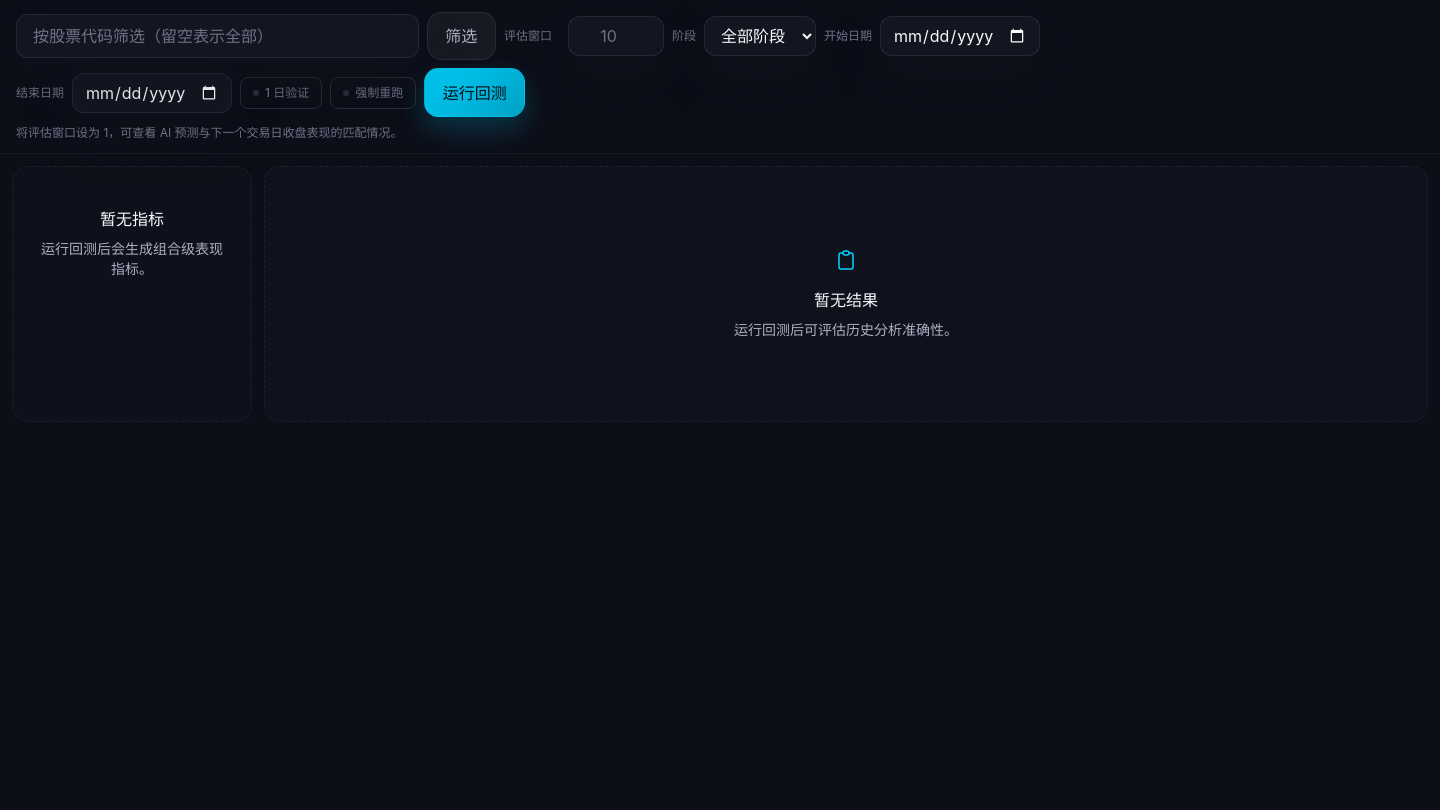
Test: BacktestPage › uses backend-applied eval window when run input is empty
Type "600519.SH" into the field with placeholder "按股票代码筛选（留空表示全部）" at (217, 36), box [16,14,419,58]
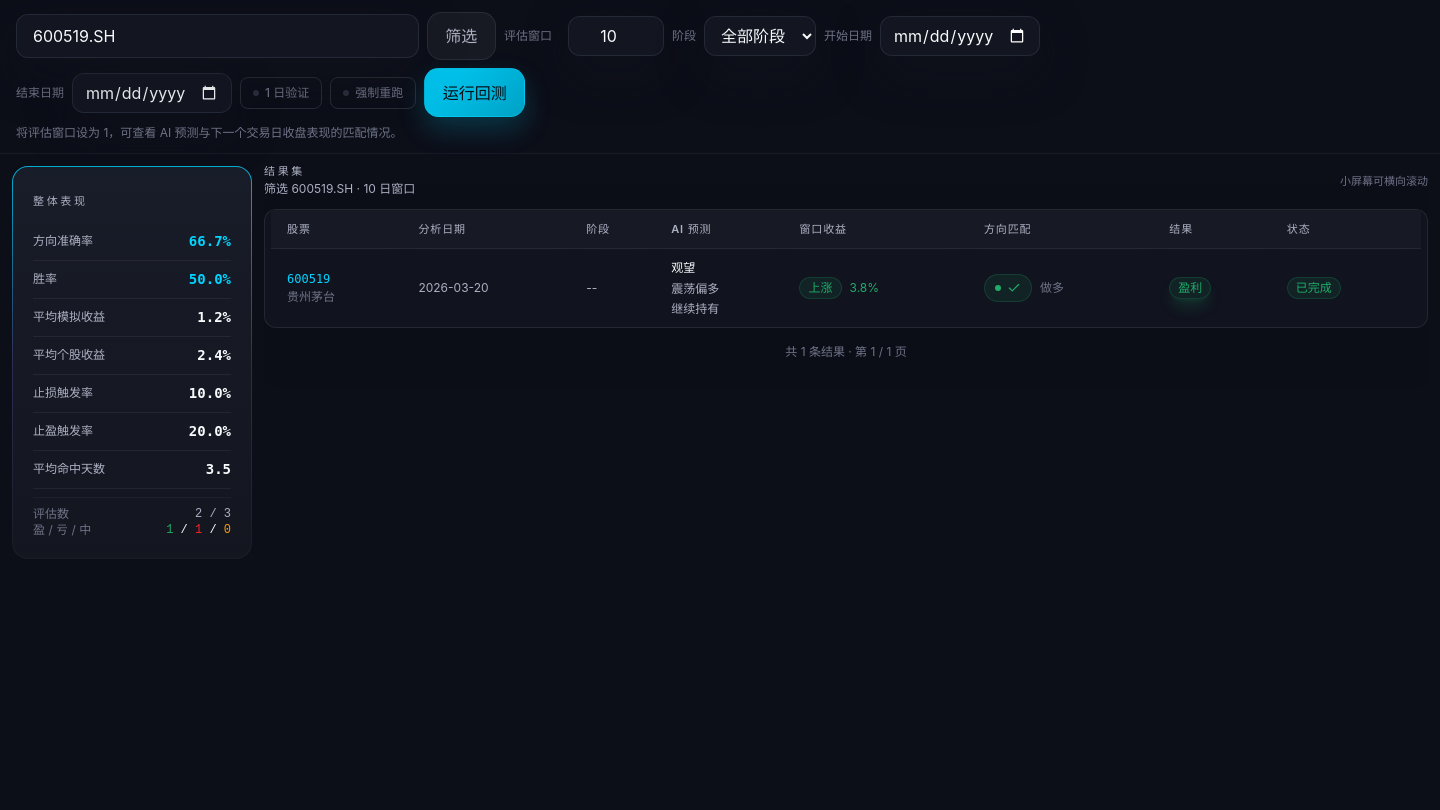
Clear the number field with placeholder "10" at (616, 36), box [568,16,664,56]
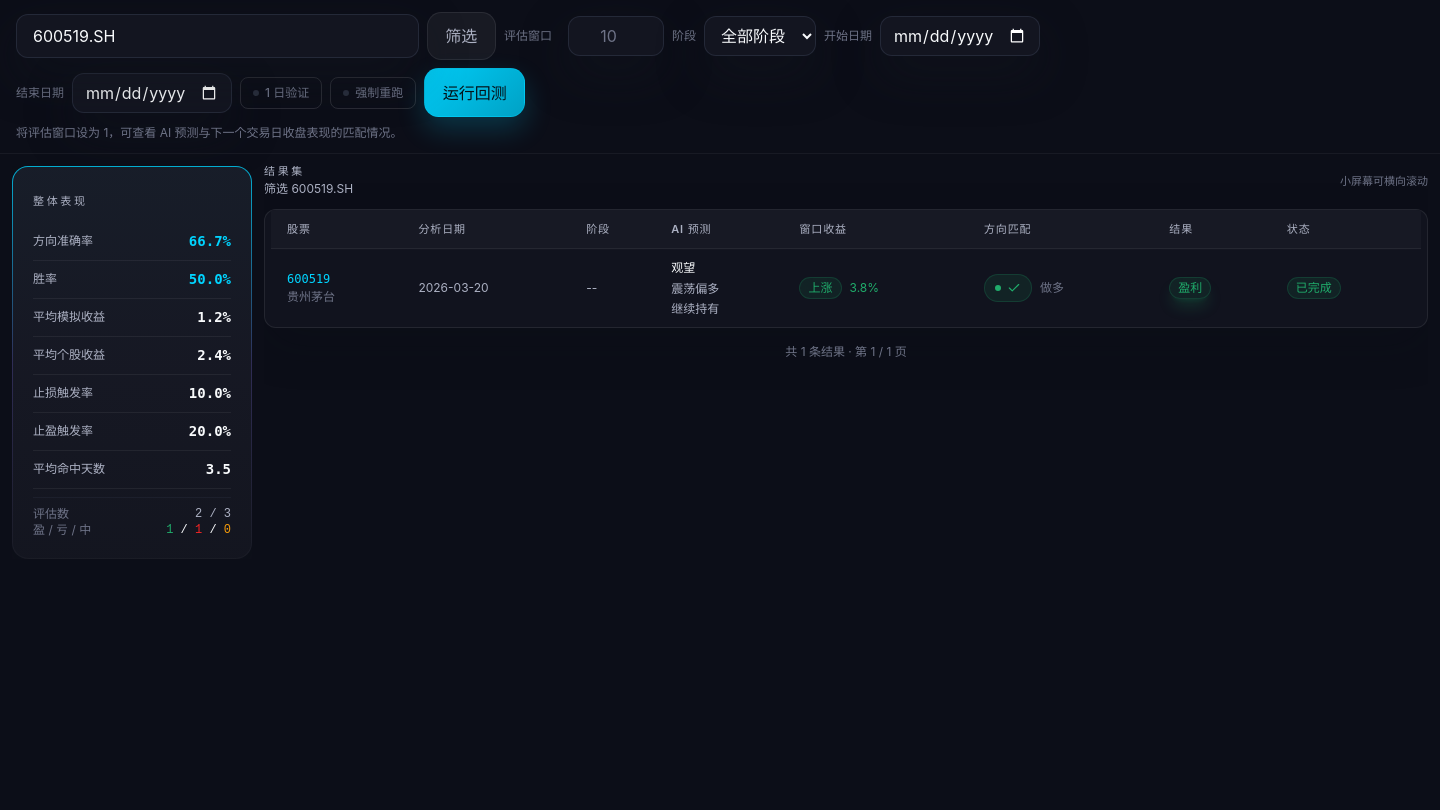
Type "2026-03-01" into the date field named "分析开始日期" at (960, 36), box [880,16,1040,56]
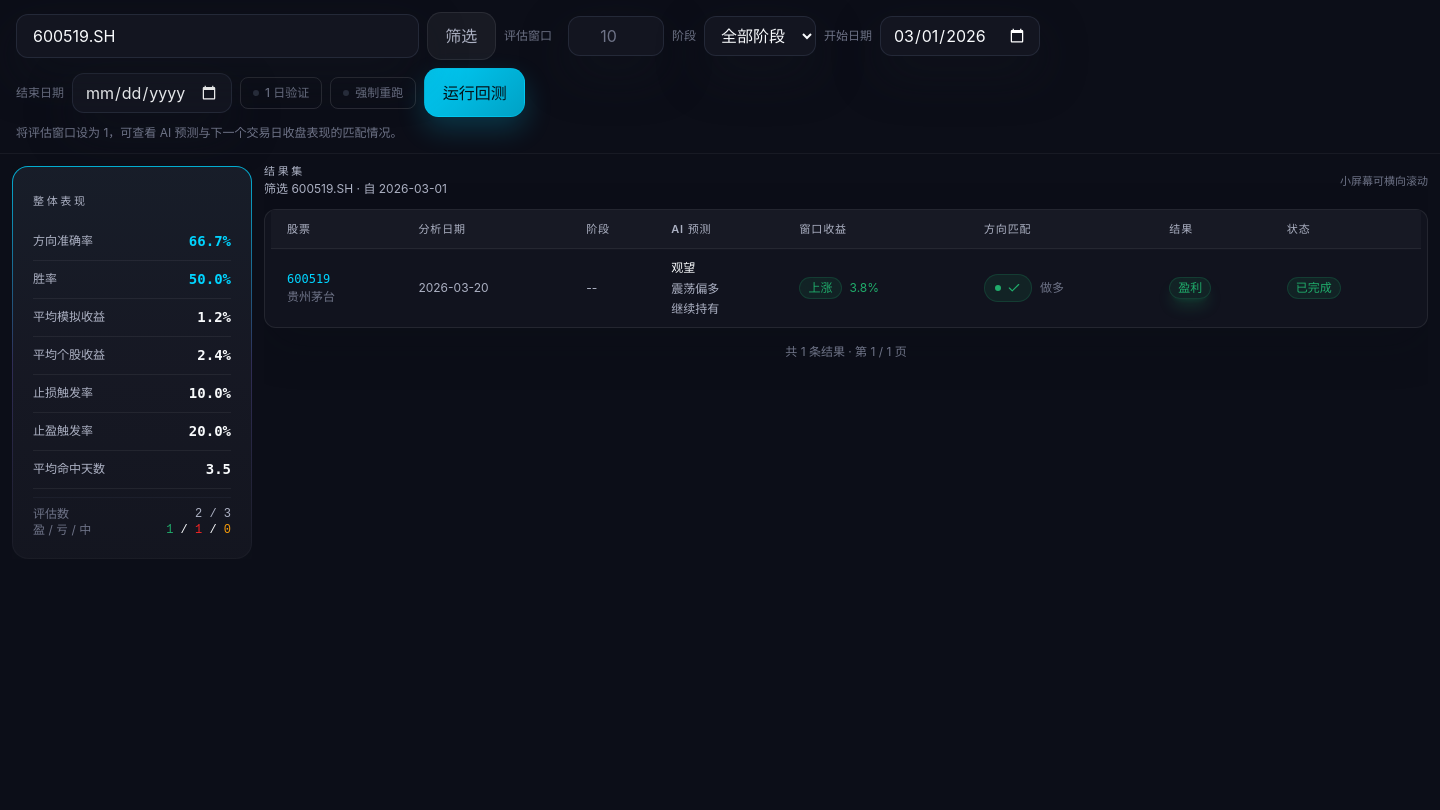
Type "2026-03-31" into the date field named "分析结束日期" at (152, 93), box [72,73,232,113]
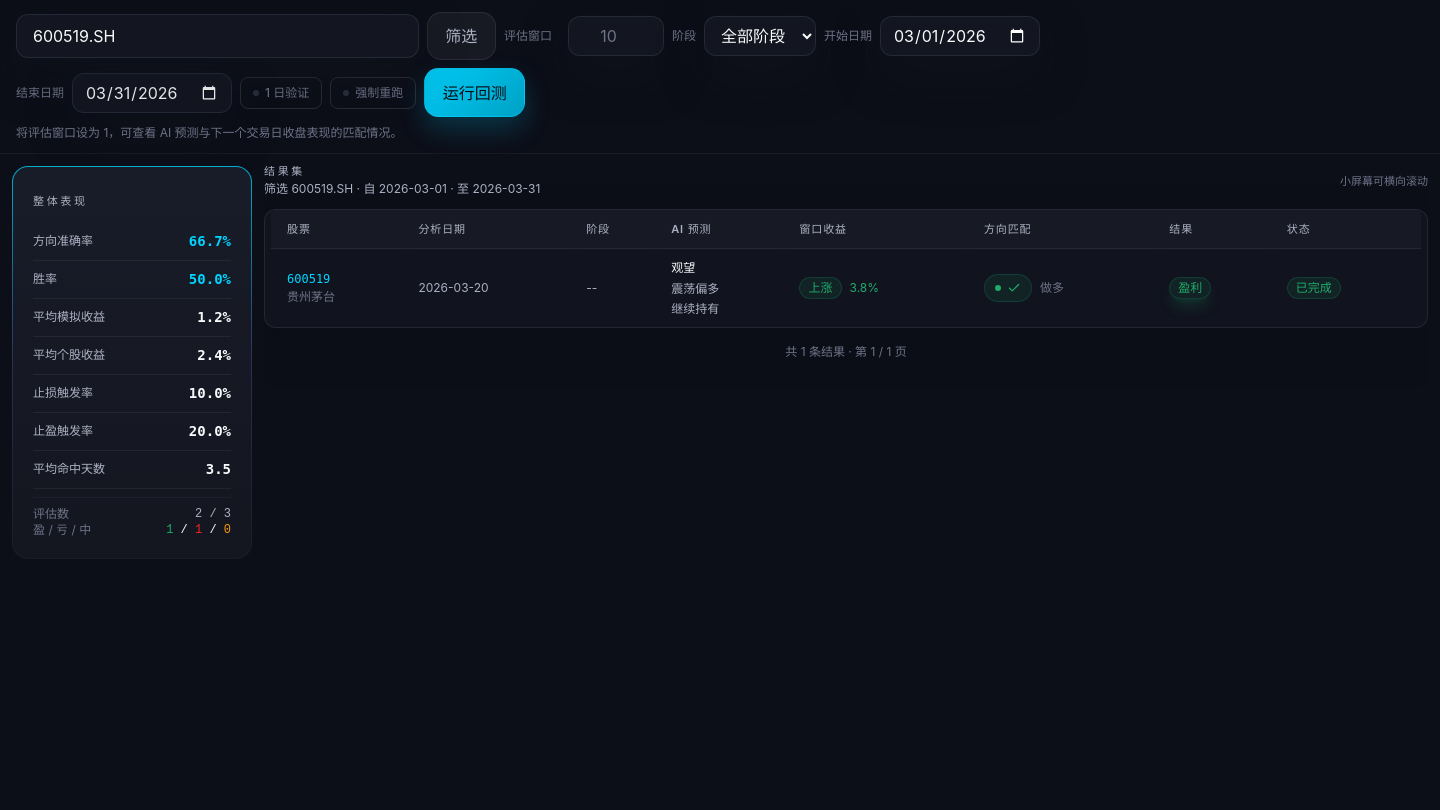
Click the button "运行回测" at (475, 93), box [424,68,525,117]
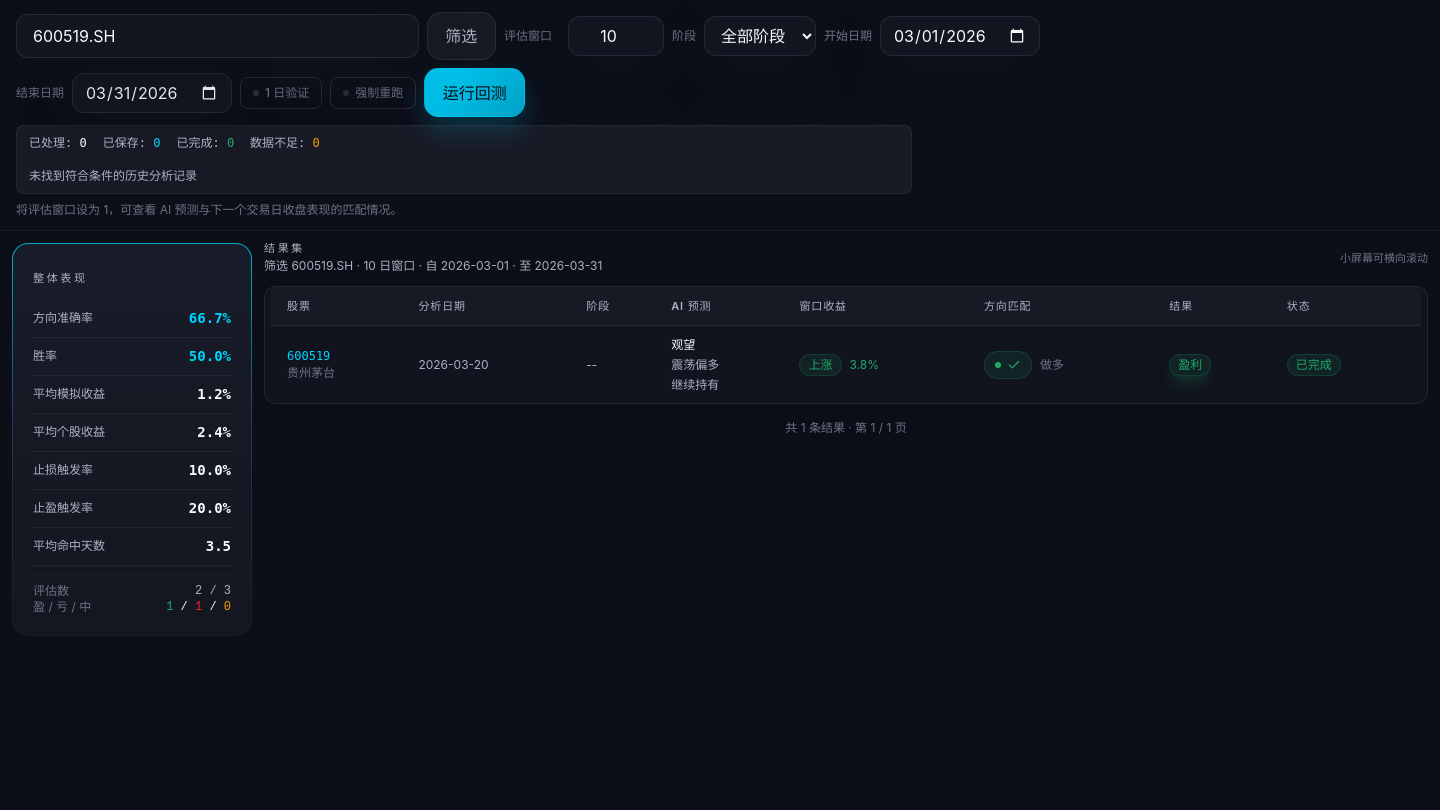
Check: the number field with placeholder "10" holds "10", box [568,16,664,56]
Check: the text "未找到符合条件的历史分析记录" is shown, box [29,169,197,183]
